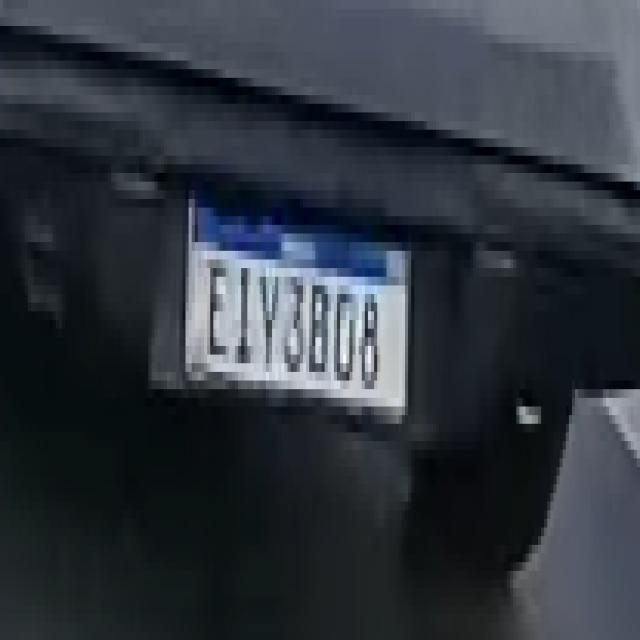Placa_mercosul_carro: (185, 195, 411, 424)
